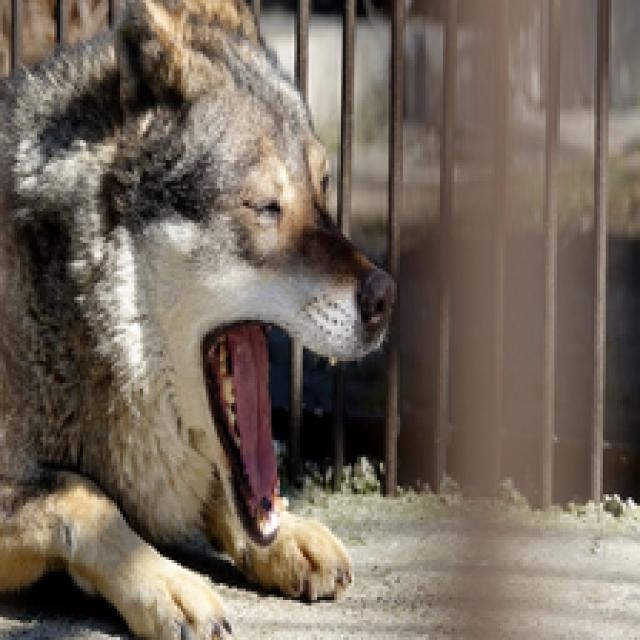wolf: (0, 0, 420, 640)
